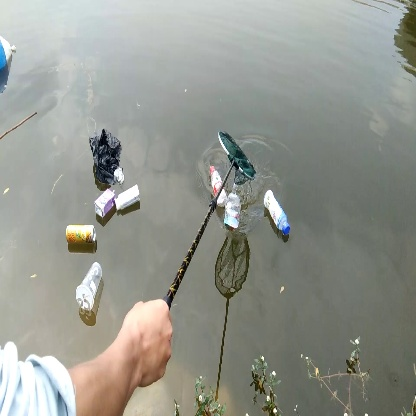bottle: (260, 190, 294, 239), (74, 259, 104, 313), (62, 222, 100, 245)
milk-box: (92, 189, 117, 219)
plastic-bag: (89, 128, 126, 185)
